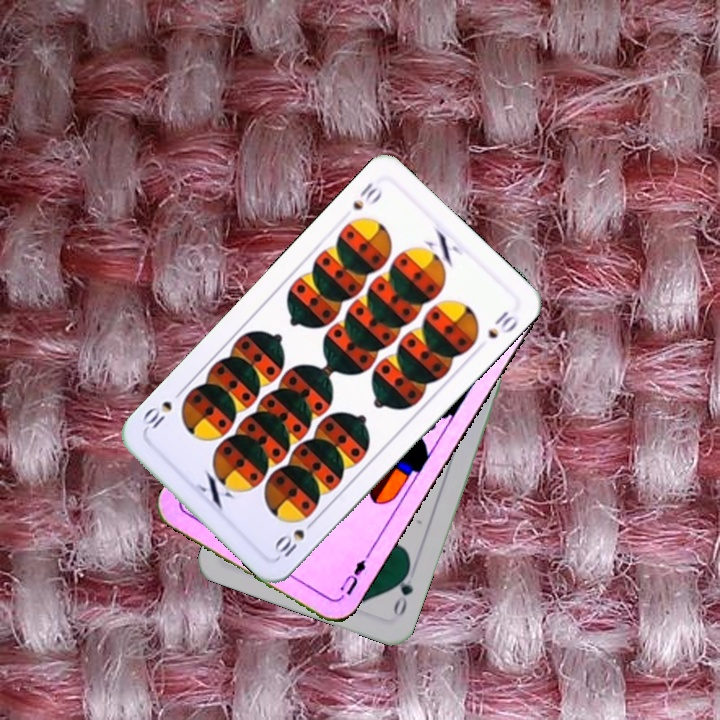EU: (335, 555, 369, 602)
GO: (389, 562, 416, 619)
S10: (270, 514, 319, 560), (348, 178, 386, 213)
